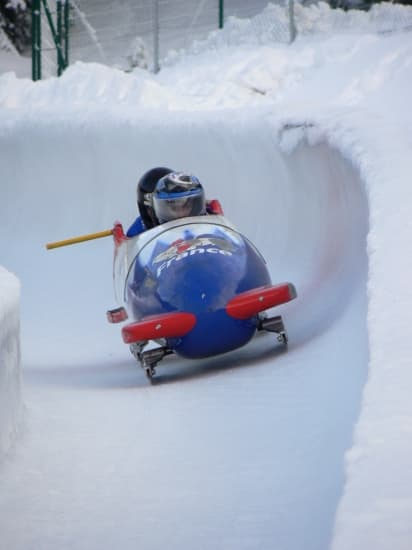Bobsleigh: (111, 222, 295, 378)
